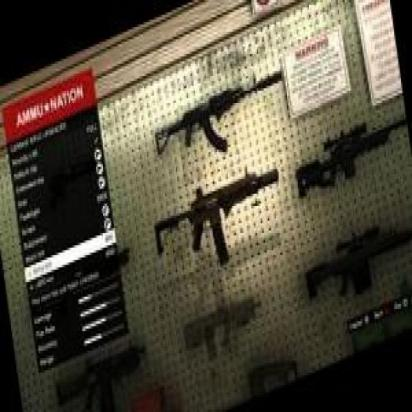Gun: (150, 165, 281, 270), (152, 67, 284, 158), (295, 117, 408, 203), (301, 222, 412, 304)
